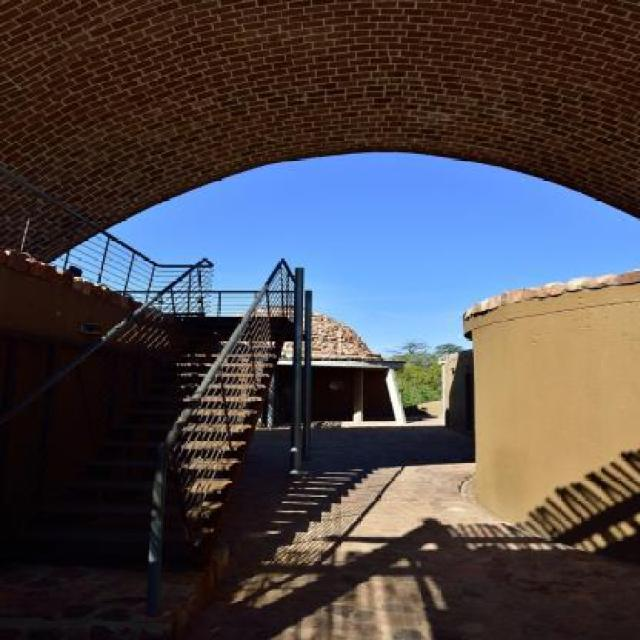stair: (0, 314, 294, 566)
